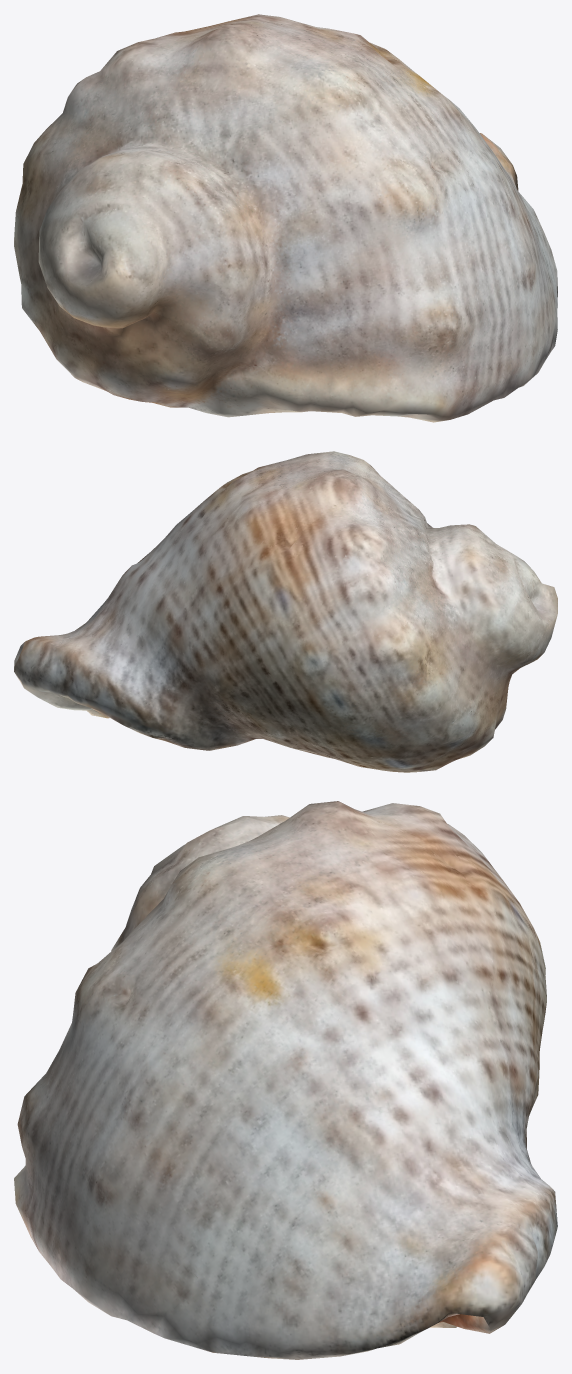
The model's file is whelk-high.glb.
The picture shows the model from 3 angles, top to bottom: view 1: azimuth 30°, elevation 25°; view 2: azimuth 150°, elevation 25°; view 3: azimuth 270°, elevation 25°; orthographic projection. The views are drawn at different scales.
Visible parts, largest first — view 1: Whelk; view 2: Whelk; view 3: Whelk.
Boxes of the visible parts, <box> form: Whelk: <box>14,14,557,422</box>; Whelk: <box>14,451,557,772</box>; Whelk: <box>14,801,557,1359</box>.
Bounding box in the file's own units: 1.09 × 0.6374 × 0.7954.
1 material, 1 textured.
